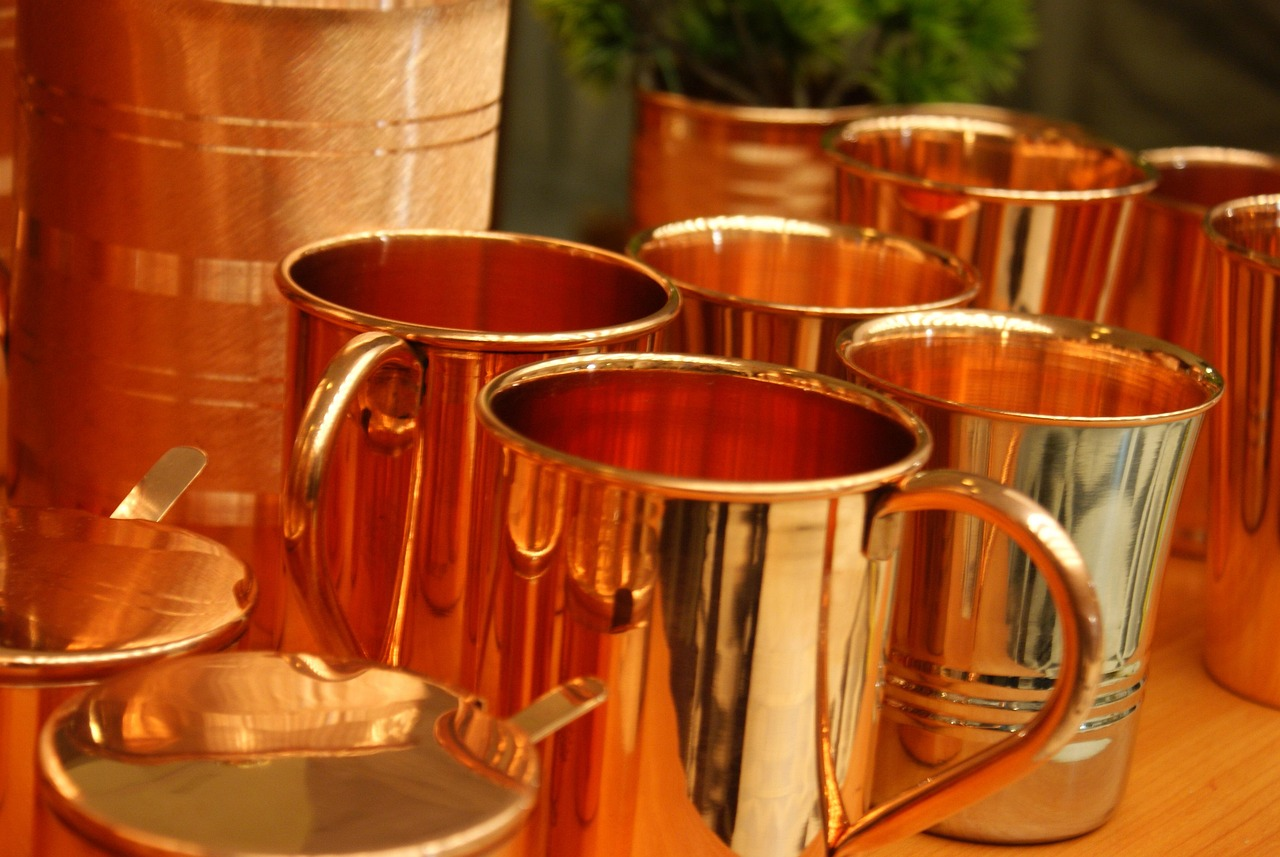mug: (456, 336, 1104, 857), (207, 231, 687, 700), (828, 301, 1232, 857)
